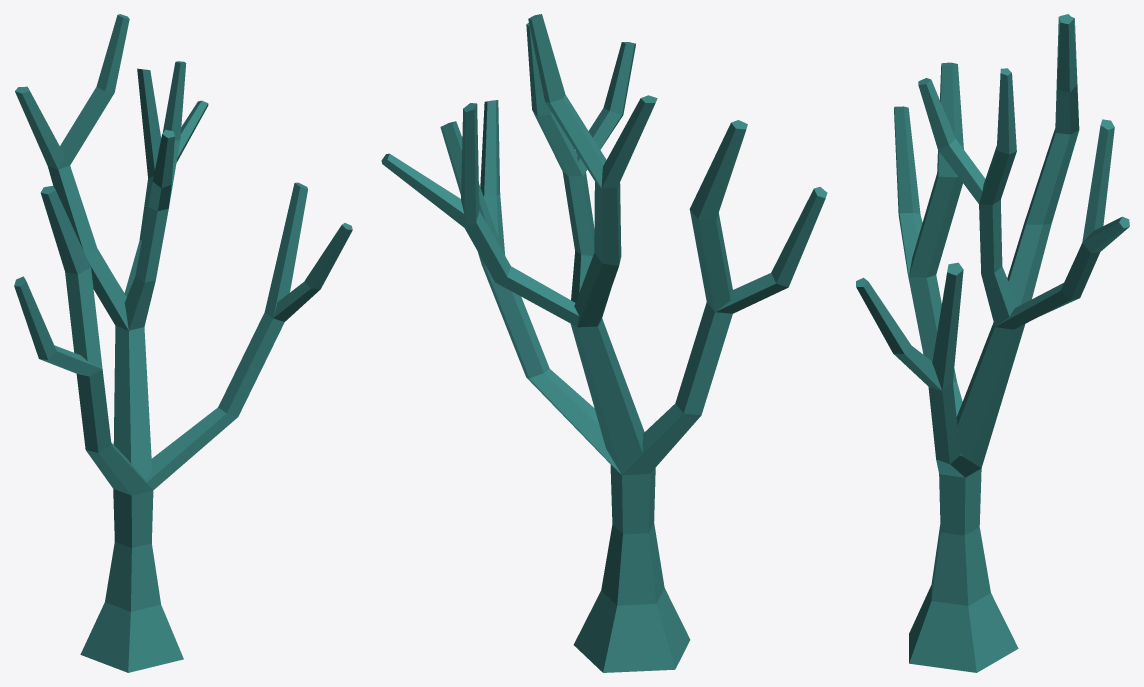
The model's file is SM_Coral_Branch_A.fbx.
3 renders of one model, left to right at view 1: azimuth 30°, elevation 25°; view 2: azimuth 150°, elevation 25°; view 3: azimuth 270°, elevation 25°, orthographic. The views are drawn at different scales.
Visible parts, largest first — view 1: coral-branch-a; view 2: coral-branch-a; view 3: coral-branch-a.
Part boxes in pixels (x1,y1,x2,y2): coral-branch-a: (14,14,352,672); coral-branch-a: (381,14,827,672); coral-branch-a: (856,14,1129,672).
Size of the model in its own units: 0.5945 by 1.05 by 0.3986.
